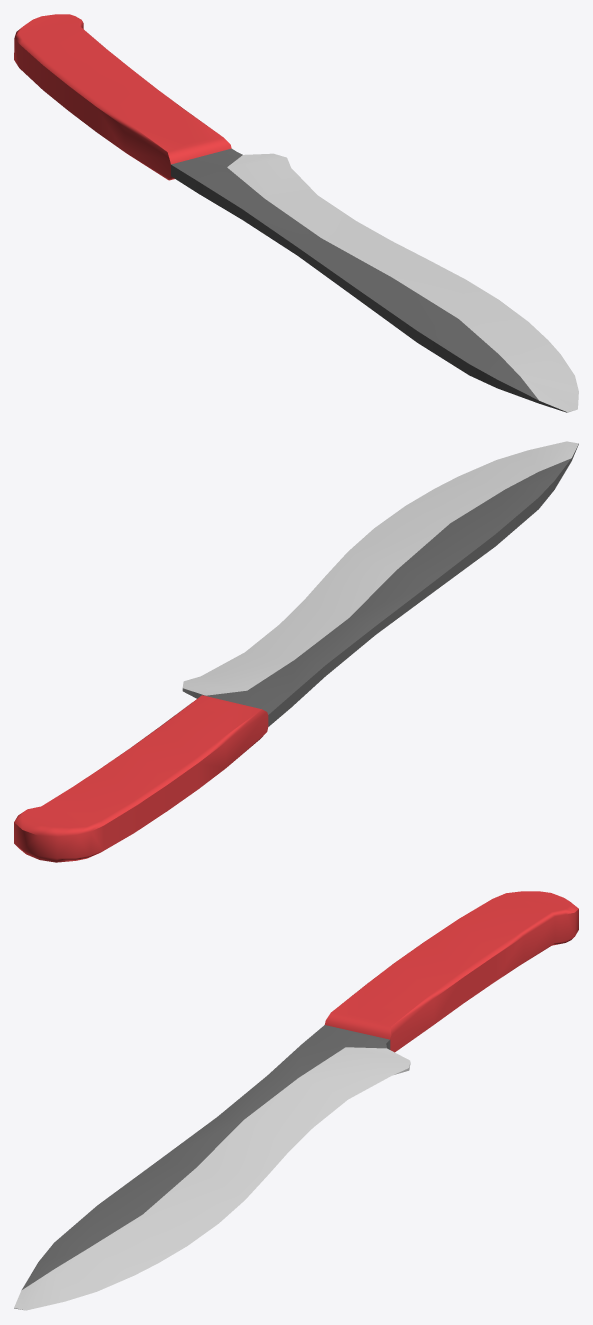
The model's file is knife3.fbx.
The picture shows the model from 3 angles, top to bottom: view 1: azimuth 30°, elevation 25°; view 2: azimuth 150°, elevation 25°; view 3: azimuth 330°, elevation 25°; orthographic projection. The views are drawn at different scales.
Parts seen in each view (by area): view 1: knife3; view 2: knife3; view 3: knife3.
Part boxes in pixels (x1=…): knife3: x1=14, y1=14, x2=578, y2=412; knife3: x1=14, y1=441, x2=578, y2=862; knife3: x1=14, y1=891, x2=578, y2=1310.
Bounding box in the file's own units: 263 × 70.02 × 2041.
